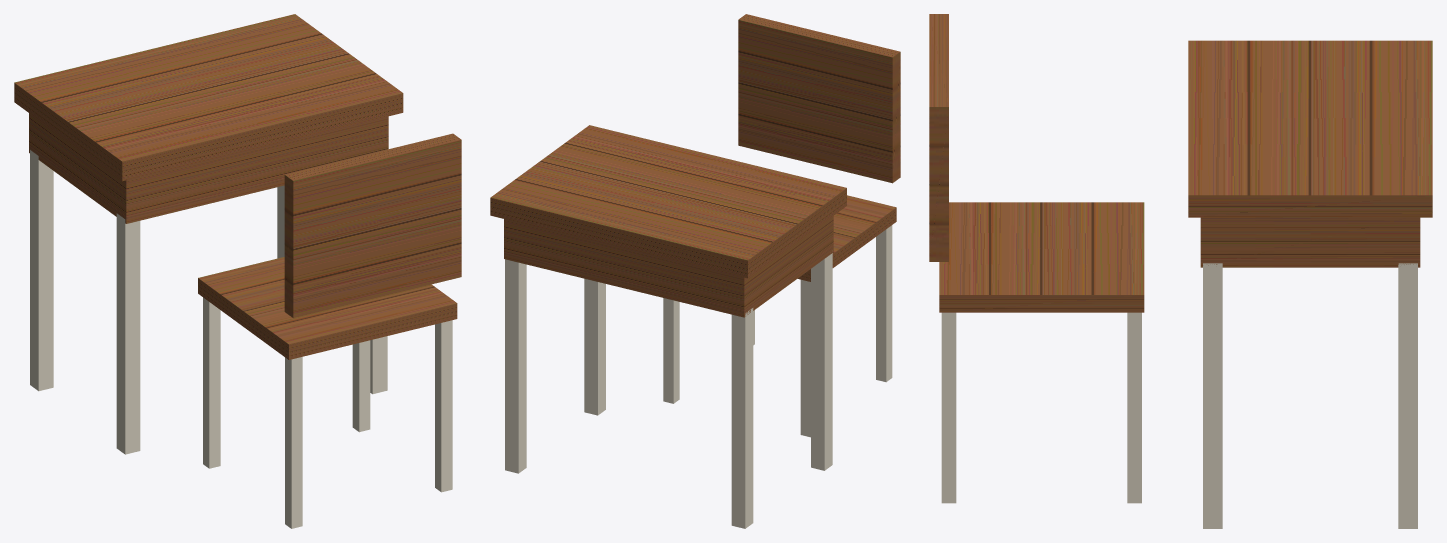
File: wood_desk.glb
3 views of the same model, side by side, from view 1: azimuth 30°, elevation 25°; view 2: azimuth 150°, elevation 25°; view 3: azimuth 270°, elevation 25° (orthographic). The views are drawn at different scales.
Visible parts, largest first — view 1: wood_desk; view 2: wood_desk; view 3: wood_desk.
Boxes of the visible parts, x1=… form: wood_desk: x1=14, y1=14, x2=461, y2=528; wood_desk: x1=490, y1=14, x2=900, y2=528; wood_desk: x1=929, y1=14, x2=1432, y2=528.
Size of the model in its own units: 0.75 by 0.9 by 1.03.
2 materials, 1 textured.
